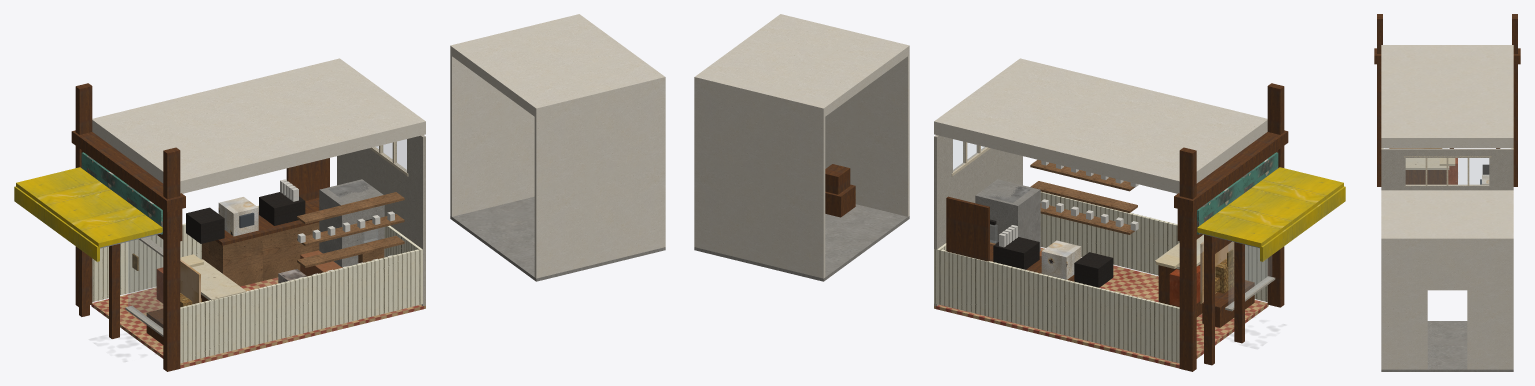
Rendered from shop_radio_service.gltf.
3 views of the same model, side by side, from view 1: azimuth 30°, elevation 25°; view 2: azimuth 150°, elevation 25°; view 3: azimuth 270°, elevation 25° (orthographic). The views are drawn at different scales.
Visible parts, largest first — view 1: F01_OWN_SHOP_RADIO_SERVICE_retail_shop_radio_service_plaster (×2), F01_OWN_SHOP_RADIO_SERVICE_retail_shop_radio_service_wainsco, F01_OWN_SHOP_RADIO_SERVICE_retail_shop_radio_service_wood_da, F01_OWN_SHOP_RADIO_SERVICE_retail_shop_radio_service_timber-, F01_OWN_SHOP_RADIO_SERVICE_retail_shop_radio_service_awning_, F01_OWN_SHOP_RADIO_SERVICE_retail_shop_radio_service_concret, F01_OWN_SHOP_RADIO_SERVICE_retail_shop_radio_service_linoleu, F01_OWN_SHOP_RADIO_SERVICE_retail_shop_radio_service_glassis, F01_OWN_SHOP_RADIO_SERVICE_retail_shop_radio_service_hull-co, F01_OWN_SHOP_RADIO_SERVICE_retail_shop_radio_service_bakelit, F01_OWN_SHOP_RADIO_SERVICE_retail_shop_radio_service_stairwe, F01_OWN_SHOP_RADIO_SERVICE_retail_shop_radio_service_applian (+4 smaller); view 2: F01_OWN_SHOP_RADIO_SERVICE_retail_shop_radio_service_plaster (×2), F01_OWN_SHOP_RADIO_SERVICE_retail_shop_radio_service_wainsco, F01_OWN_SHOP_RADIO_SERVICE_retail_shop_radio_service_wood_da, F01_OWN_SHOP_RADIO_SERVICE_retail_shop_radio_service_awning_, F01_OWN_SHOP_RADIO_SERVICE_retail_shop_radio_service_concret, F01_OWN_SHOP_RADIO_SERVICE_retail_shop_radio_service_linoleu, F01_OWN_SHOP_RADIO_SERVICE_retail_shop_radio_service_timber-, F01_OWN_SHOP_RADIO_SERVICE_retail_shop_radio_service_hull-co, F01_OWN_SHOP_RADIO_SERVICE_retail_shop_radio_service_bakelit, F01_OWN_SHOP_RADIO_SERVICE_retail_shop_radio_service_glassis, F01_OWN_SHOP_RADIO_SERVICE_retail_shop_radio_service_stairwe, F01_OWN_SHOP_RADIO_SERVICE_retail_shop_radio_service_applian (+3 smaller); view 3: F01_OWN_SHOP_RADIO_SERVICE_retail_shop_radio_service_plaster (×2), F01_OWN_SHOP_RADIO_SERVICE_retail_shop_radio_service_wood_da, F01_OWN_SHOP_RADIO_SERVICE_retail_shop_radio_service_concret, F01_OWN_SHOP_RADIO_SERVICE_retail_shop_radio_service_glassis, F01_OWN_SHOP_RADIO_SERVICE_retail_shop_radio_service_trim-co, F01_OWN_SHOP_RADIO_SERVICE_retail_shop_radio_service_counter, F01_OWN_SHOP_RADIO_SERVICE_retail_shop_radio_service_fabric_.
Boxes of the visible parts, x1,y1,x2,y2 form: F01_OWN_SHOP_RADIO_SERVICE_retail_shop_radio_service_plaster (×2): (92,14,665,306); F01_OWN_SHOP_RADIO_SERVICE_retail_shop_radio_service_wainsco: (92,205,422,363); F01_OWN_SHOP_RADIO_SERVICE_retail_shop_radio_service_wood_da: (71,83,329,371); F01_OWN_SHOP_RADIO_SERVICE_retail_shop_radio_service_timber-: (202,192,404,286); F01_OWN_SHOP_RADIO_SERVICE_retail_shop_radio_service_awning_: (14,167,162,261); F01_OWN_SHOP_RADIO_SERVICE_retail_shop_radio_service_concret: (450,196,665,281); F01_OWN_SHOP_RADIO_SERVICE_retail_shop_radio_service_linoleu: (91,277,425,368); F01_OWN_SHOP_RADIO_SERVICE_retail_shop_radio_service_glassis: (128,139,406,332); F01_OWN_SHOP_RADIO_SERVICE_retail_shop_radio_service_hull-co: (319,179,384,267); F01_OWN_SHOP_RADIO_SERVICE_retail_shop_radio_service_bakelit: (186,192,372,243); F01_OWN_SHOP_RADIO_SERVICE_retail_shop_radio_service_stairwe: (81,152,162,234); F01_OWN_SHOP_RADIO_SERVICE_retail_shop_radio_service_applian: (218,197,258,236); F01_OWN_SHOP_RADIO_SERVICE_retail_shop_radio_service_plaster (×2): (694,14,1267,306); F01_OWN_SHOP_RADIO_SERVICE_retail_shop_radio_service_wainsco: (934,191,1267,363); F01_OWN_SHOP_RADIO_SERVICE_retail_shop_radio_service_wood_da: (825,83,1288,371); F01_OWN_SHOP_RADIO_SERVICE_retail_shop_radio_service_awning_: (1197,167,1345,261); F01_OWN_SHOP_RADIO_SERVICE_retail_shop_radio_service_concret: (694,204,909,281); F01_OWN_SHOP_RADIO_SERVICE_retail_shop_radio_service_linoleu: (934,247,1268,368); F01_OWN_SHOP_RADIO_SERVICE_retail_shop_radio_service_timber-: (990,159,1137,244); F01_OWN_SHOP_RADIO_SERVICE_retail_shop_radio_service_hull-co: (975,179,1040,251); F01_OWN_SHOP_RADIO_SERVICE_retail_shop_radio_service_bakelit: (990,219,1113,287); F01_OWN_SHOP_RADIO_SERVICE_retail_shop_radio_service_glassis: (953,139,1271,307); F01_OWN_SHOP_RADIO_SERVICE_retail_shop_radio_service_stairwe: (1197,152,1278,234); F01_OWN_SHOP_RADIO_SERVICE_retail_shop_radio_service_applian: (1041,240,1081,279); F01_OWN_SHOP_RADIO_SERVICE_retail_shop_radio_service_plaster (×2): (1381,45,1513,369); F01_OWN_SHOP_RADIO_SERVICE_retail_shop_radio_service_wood_da: (1374,14,1520,186); F01_OWN_SHOP_RADIO_SERVICE_retail_shop_radio_service_concret: (1381,321,1513,371); F01_OWN_SHOP_RADIO_SERVICE_retail_shop_radio_service_glassis: (1385,148,1488,185); F01_OWN_SHOP_RADIO_SERVICE_retail_shop_radio_service_trim-co: (1404,156,1491,187); F01_OWN_SHOP_RADIO_SERVICE_retail_shop_radio_service_counter: (1405,158,1449,169); F01_OWN_SHOP_RADIO_SERVICE_retail_shop_radio_service_fabric_: (1448,158,1457,184).
Bounding box in the file's own units: 11.4 × 4.25 × 3.32.
Materials: 33 (31 with a texture image).
